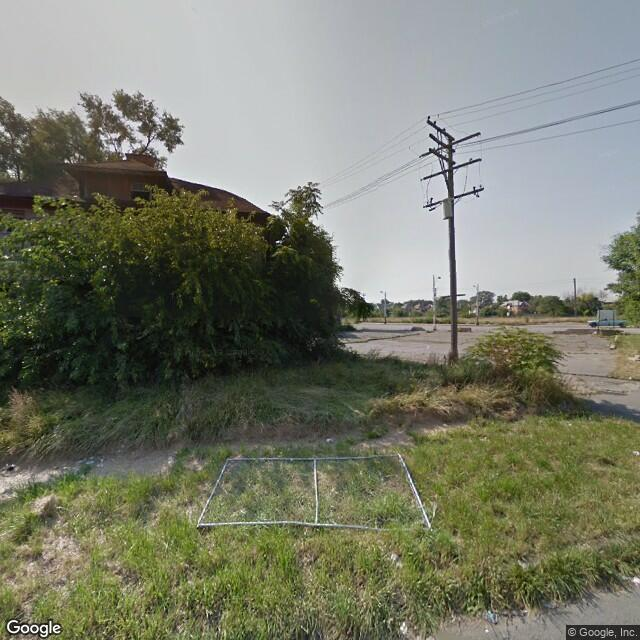litter: (193, 453, 435, 532), (321, 434, 340, 448), (625, 445, 640, 461)
